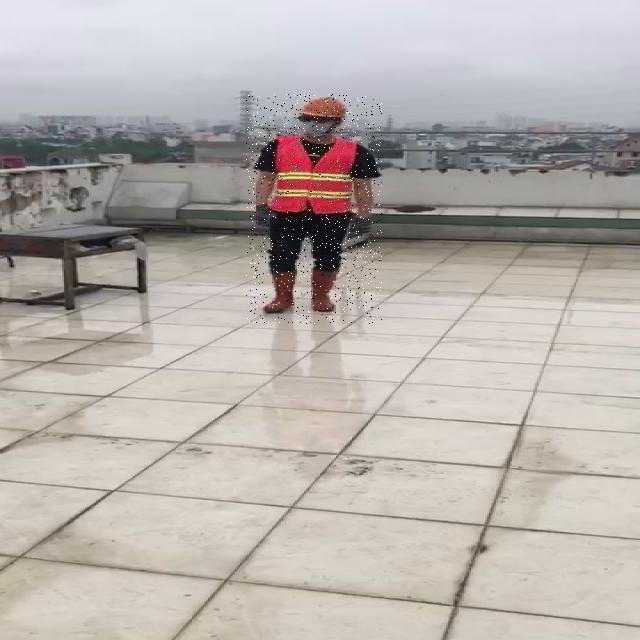gloves: (252, 201, 278, 231), (344, 215, 373, 241)
goggles: (295, 115, 342, 126)
helmet: (296, 94, 350, 118)
safety_vest: (270, 137, 358, 213)
